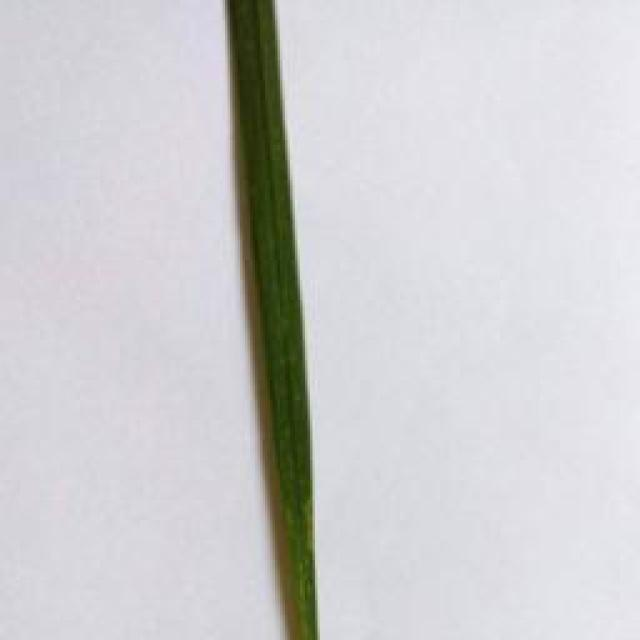Healthy-Plant: (218, 0, 318, 640)
